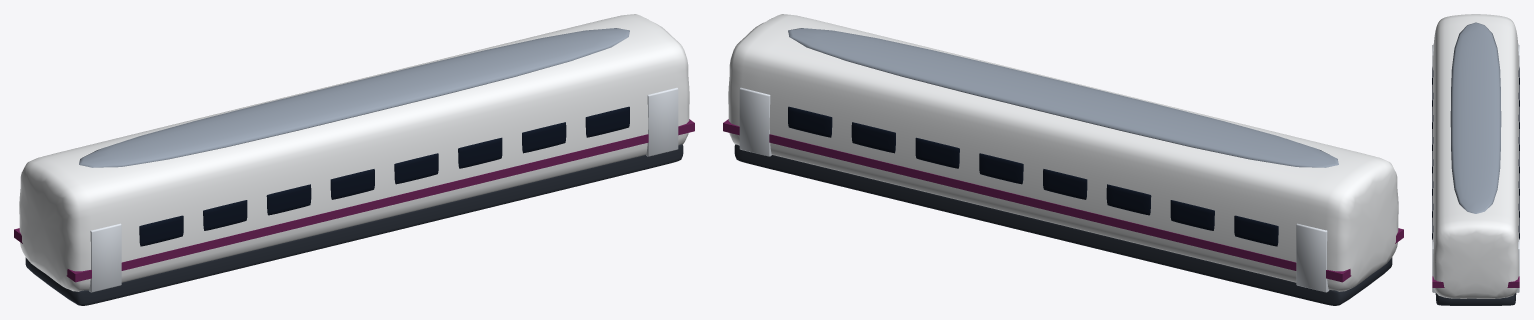
File: tren_avant_coche.glb
3 renders of one model, left to right at view 1: azimuth 30°, elevation 25°; view 2: azimuth 150°, elevation 25°; view 3: azimuth 270°, elevation 25°, orthographic. The views are drawn at different scales.
Parts seen in each view (by area): view 1: CajaCoche, TechoCoche, Cube, Cube.001, Cube.011, Cube.010, Cube.002, Cube.007, Cube.003, Cube.006, Cube.004, Cube.008 (+2 smaller); view 2: CajaCoche, TechoCoche, Cube, Cube.001, Cube.011, Cube.010, Cube.002, Cube.006, Cube.007, Cube.003, Cube.004, Cube.008 (+2 smaller); view 3: CajaCoche, TechoCoche, Cube, Cube.001, Cube.011, Cube.010.
Boxes of the visible parts, x1,y1,x2,y2 form: CajaCoche: (19, 14, 689, 291); TechoCoche: (79, 28, 629, 167); Cube: (25, 144, 683, 305); Cube.001: (14, 119, 694, 282); Cube.011: (646, 87, 678, 156); Cube.010: (88, 223, 121, 292); Cube.002: (139, 215, 183, 246); Cube.007: (458, 137, 502, 168); Cube.003: (203, 200, 247, 230); Cube.006: (394, 153, 438, 184); Cube.004: (266, 184, 311, 215); Cube.008: (522, 122, 566, 153); CajaCoche: (728, 14, 1398, 291); TechoCoche: (788, 28, 1338, 167); Cube: (734, 144, 1392, 305); Cube.001: (723, 119, 1403, 282); Cube.011: (739, 87, 771, 156); Cube.010: (1296, 223, 1329, 292); Cube.002: (1234, 215, 1278, 246); Cube.006: (979, 153, 1023, 184); Cube.007: (915, 137, 959, 168); Cube.003: (1170, 200, 1214, 230); Cube.004: (1106, 184, 1151, 215); Cube.008: (851, 122, 895, 153); CajaCoche: (1433, 14, 1518, 298); TechoCoche: (1450, 22, 1501, 213); Cube: (1435, 293, 1516, 305); Cube.001: (1432, 276, 1519, 287); Cube.011: (1432, 238, 1519, 292); Cube.010: (1432, 44, 1519, 67).
Size of the model in its own units: 17.37 by 3.2 by 2.97.
